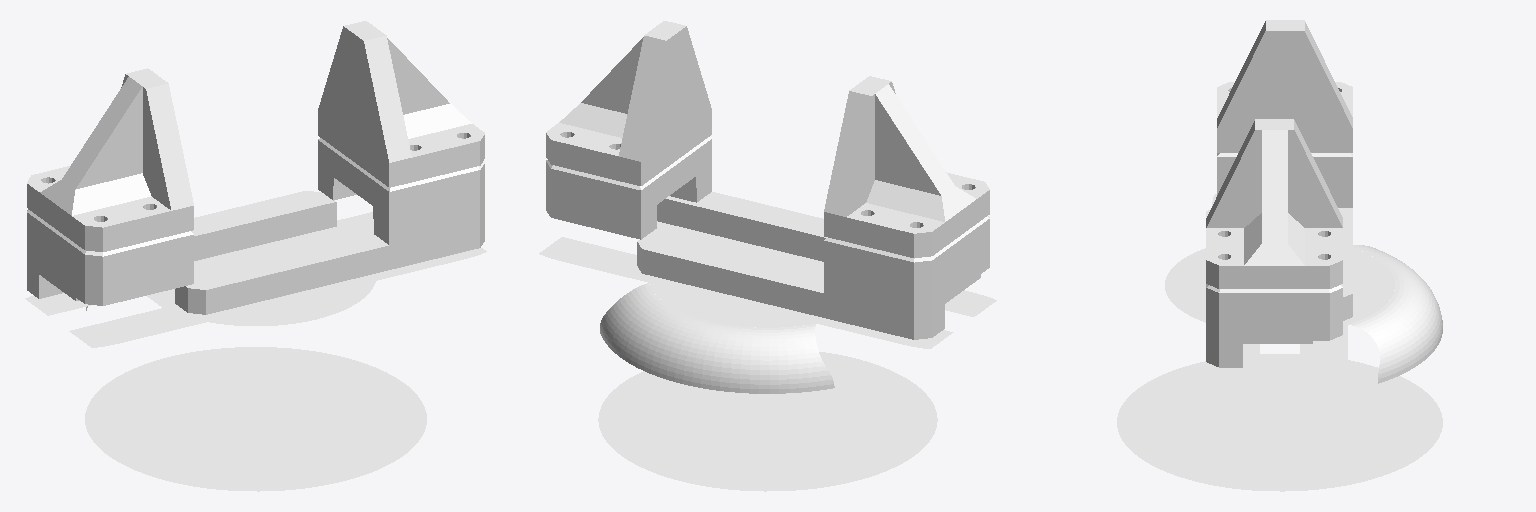
URDF robot description (adaptiveelectric):
<?xml version="1.0" encoding="utf-8"?>
<!-- This URDF was automatically created by SolidWorks to URDF Exporter! Originally created by Stephen Brawner (brawner@gmail.com) 
     Commit Version: 1.6.0-4-g7f85cfe  Build Version: 1.6.7995.38578
     For more information, please see http://wiki.ros.org/sw_urdf_exporter -->
<robot
  name="adaptiveelectric">
  <link
    name="base_link">
    <inertial>
      <origin
        xyz="0.0449250426589663 0.09275236347722 0.0999940250530574"
        rpy="0 0 0" />
      <mass
        value="0.0587386661476619" />
      <inertia
        ixx="1.30108830109E-05"
        ixy="-1.24513843246382E-19"
        ixz="-3.83620660524768E-06"
        iyy="7.49186913129099E-05"
        iyz="-1.38278128639265E-19"
        izz="7.73182963160046E-05" />
    </inertial>
    <visual>
      <origin
        xyz="0 0 0"
        rpy="0 0 0" />
      <geometry>
        <mesh
          filename="package://adaptiveelectric/meshes/base_link.STL" />
      </geometry>
      <material
        name="">
        <color
          rgba="1 1 1 0.85" />
      </material>
    </visual>
    <collision>
      <origin
        xyz="0 0 0"
        rpy="0 0 0" />
      <geometry>
        <mesh
          filename="package://adaptiveelectric/meshes/base_link.STL" />
      </geometry>
    </collision>
  </link>
  <link
    name="l_0">
    <inertial>
      <origin
        xyz="0.0178487025881449 0.0410373256860529 0.0565824673783226"
        rpy="0 0 0" />
      <mass
        value="0.029369333073831" />
      <inertia
        ixx="8.21116101850702E-06"
        ixy="4.60843047610723E-07"
        ixz="6.33980118386531E-07"
        iyy="7.38139543304804E-06"
        iyz="-9.94377631157612E-07"
        izz="3.6200481057404E-06" />
    </inertial>
    <visual>
      <origin
        xyz="0 0 0"
        rpy="0 0 0" />
      <geometry>
        <mesh
          filename="package://adaptiveelectric/meshes/l_0.STL" />
      </geometry>
      <material
        name="">
        <color
          rgba="1 1 1 0.85" />
      </material>
    </visual>
    <collision>
      <origin
        xyz="0 0 0"
        rpy="0 0 0" />
      <geometry>
        <mesh
          filename="package://adaptiveelectric/meshes/l_0.STL" />
      </geometry>
    </collision>
  </link>
  <joint
    name="l_0"
    type="prismatic">
    <origin
      xyz="0.019587 -0.14434 0.1106"
      rpy="0 1.5708 0" />
    <parent
      link="base_link" />
    <child
      link="l_0" />
    <axis
      xyz="0 0 1" />
    <limit
      lower="0"
      upper="0"
      effort="0"
      velocity="0" />
  </joint>
  <link
    name="r_0">
    <inertial>
      <origin
        xyz="0.0178487025881449 0.0410373256860531 -0.018755680721784"
        rpy="0 0 0" />
      <mass
        value="0.0293693330738309" />
      <inertia
        ixx="8.21116101850712E-06"
        ixy="4.6084304761072E-07"
        ixz="6.33980118386532E-07"
        iyy="7.38139543304815E-06"
        iyz="-9.94377631157589E-07"
        izz="3.62004810574038E-06" />
    </inertial>
    <visual>
      <origin
        xyz="0 0 0"
        rpy="0 0 0" />
      <geometry>
        <mesh
          filename="package://adaptiveelectric/meshes/r_0.STL" />
      </geometry>
      <material
        name="">
        <color
          rgba="1 1 1 0.85" />
      </material>
    </visual>
    <collision>
      <origin
        xyz="0 0 0"
        rpy="0 0 0" />
      <geometry>
        <mesh
          filename="package://adaptiveelectric/meshes/r_0.STL" />
      </geometry>
    </collision>
  </link>
  <joint
    name="r_0"
    type="prismatic">
    <origin
      xyz="-0.005075 -0.055646 0.1106"
      rpy="3.1416 1.5708 0" />
    <parent
      link="base_link" />
    <child
      link="r_0" />
    <axis
      xyz="0 0 1" />
    <limit
      lower="0"
      upper="0"
      effort="0"
      velocity="0" />
  </joint>
</robot>

--- What the picture shows (computed from the rendered views, not written in the file) ---
The picture shows the robot from 3 angles, left to right: view 1: azimuth 30°, elevation 25°; view 2: azimuth 150°, elevation 25°; view 3: azimuth 270°, elevation 25°; orthographic projection.
Robot: adaptiveelectric — 3 links, 2 joints (2 prismatic); root link base_link; default pose: all joints at 0.
Links seen in each view (by area): view 1: base_link, l_0, r_0; view 2: base_link, r_0, l_0; view 3: base_link, l_0, r_0.
Boxes of the visible links, <box> form: base_link: <box>25,212,486,491</box>; l_0: <box>175,21,484,314</box>; r_0: <box>27,68,336,305</box>; base_link: <box>539,221,996,491</box>; r_0: <box>637,76,989,339</box>; l_0: <box>546,21,827,261</box>; base_link: <box>1117,194,1442,491</box>; l_0: <box>1206,119,1342,367</box>; r_0: <box>1217,20,1352,320</box>.
Size in the robot's own frame: 0.1 by 0.075 by 0.0881 metres.
3 mesh visuals loaded from 3 distinct referenced files (3 binary STL).
